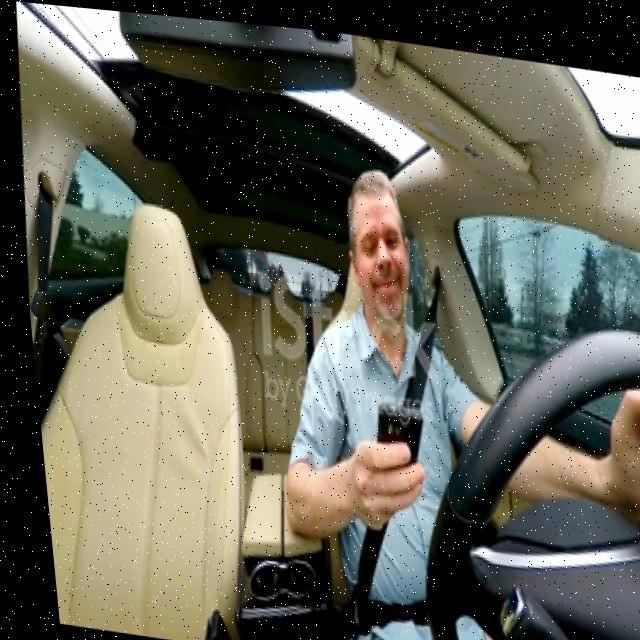PhoneCall: (362, 388, 422, 490)
